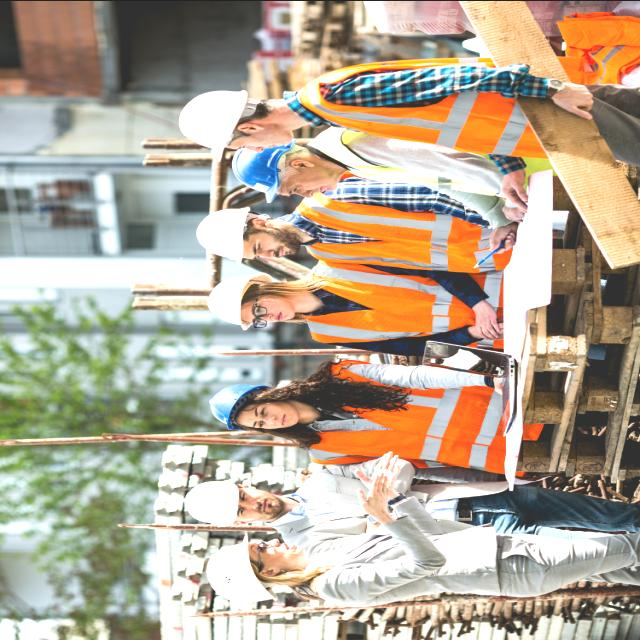Hard Hat: (173, 80, 251, 160), (202, 532, 272, 608), (204, 264, 272, 332), (192, 206, 258, 266), (226, 142, 288, 198), (180, 476, 242, 529), (206, 381, 264, 436), (166, 441, 210, 476)
Reflective Vest: (299, 354, 512, 471), (298, 54, 560, 144), (292, 182, 522, 271), (304, 269, 515, 347), (304, 128, 552, 192)
